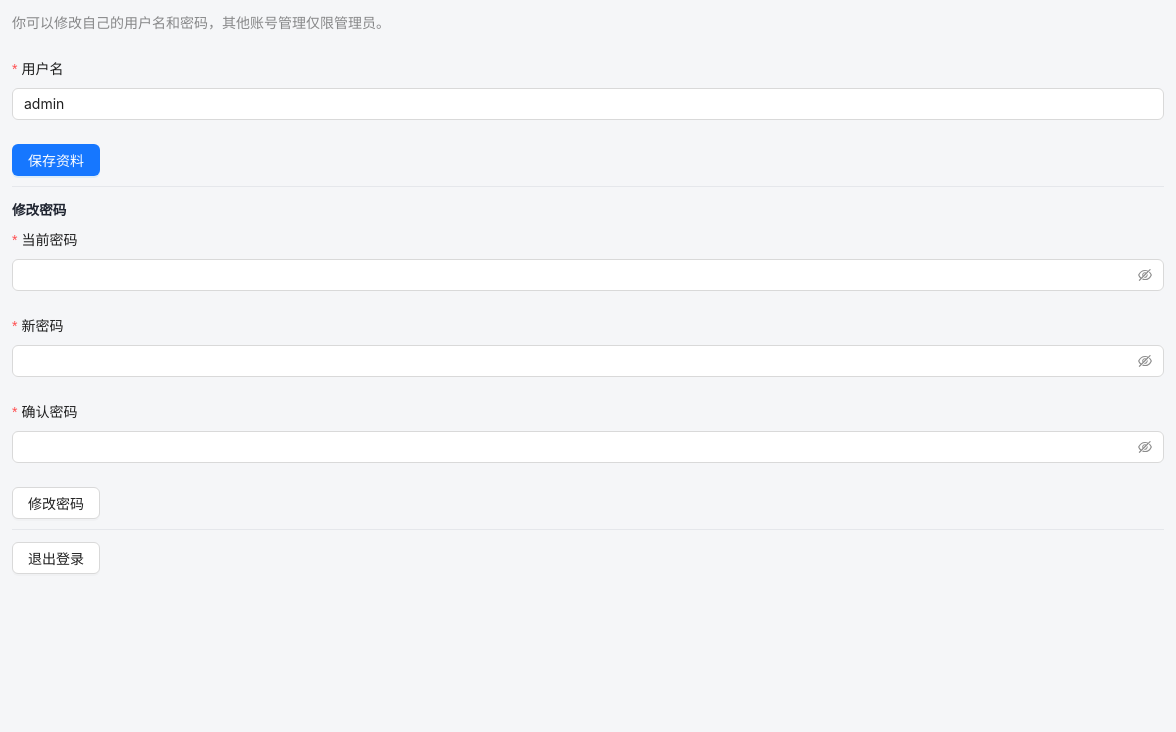
keeps a profile conflict as an in-form error without echoing the raw server text
The image size is (1176, 732).
Replace the text in the field with test id "account-profile-username" with "taken-name". click: (588, 104)
box: [12,88,1164,120]
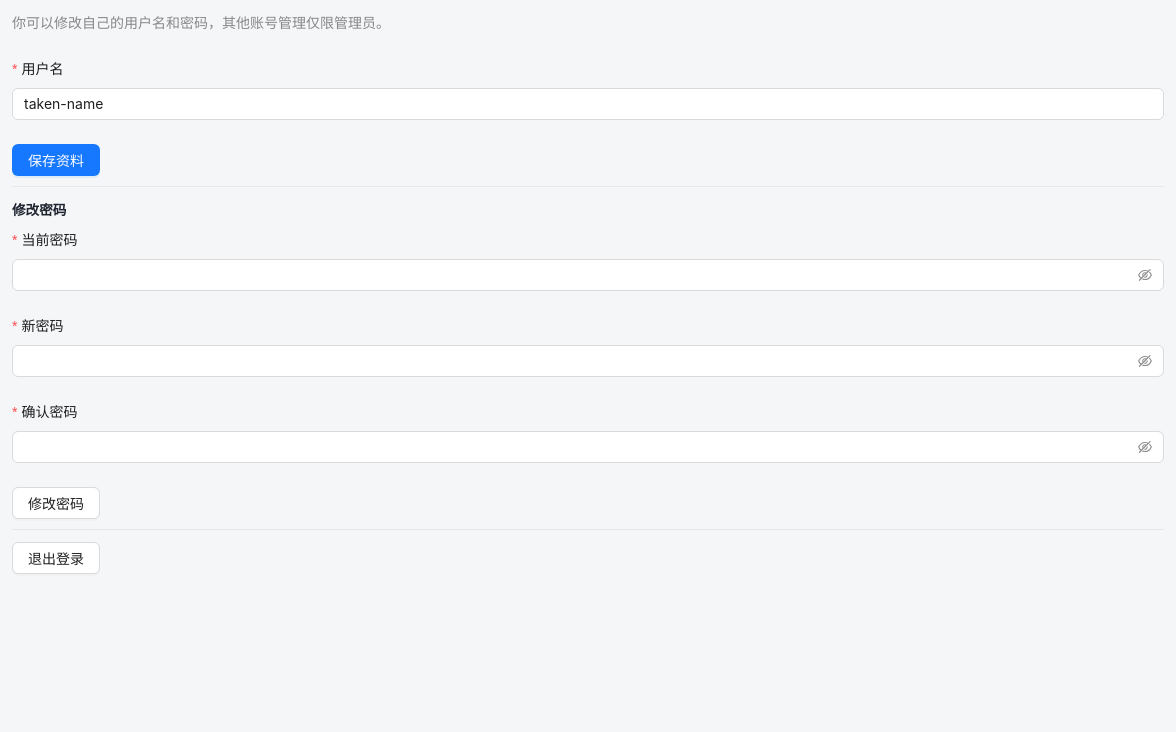
Click the button with test id "account-profile-save". click: (56, 160)
box: [12,144,100,176]
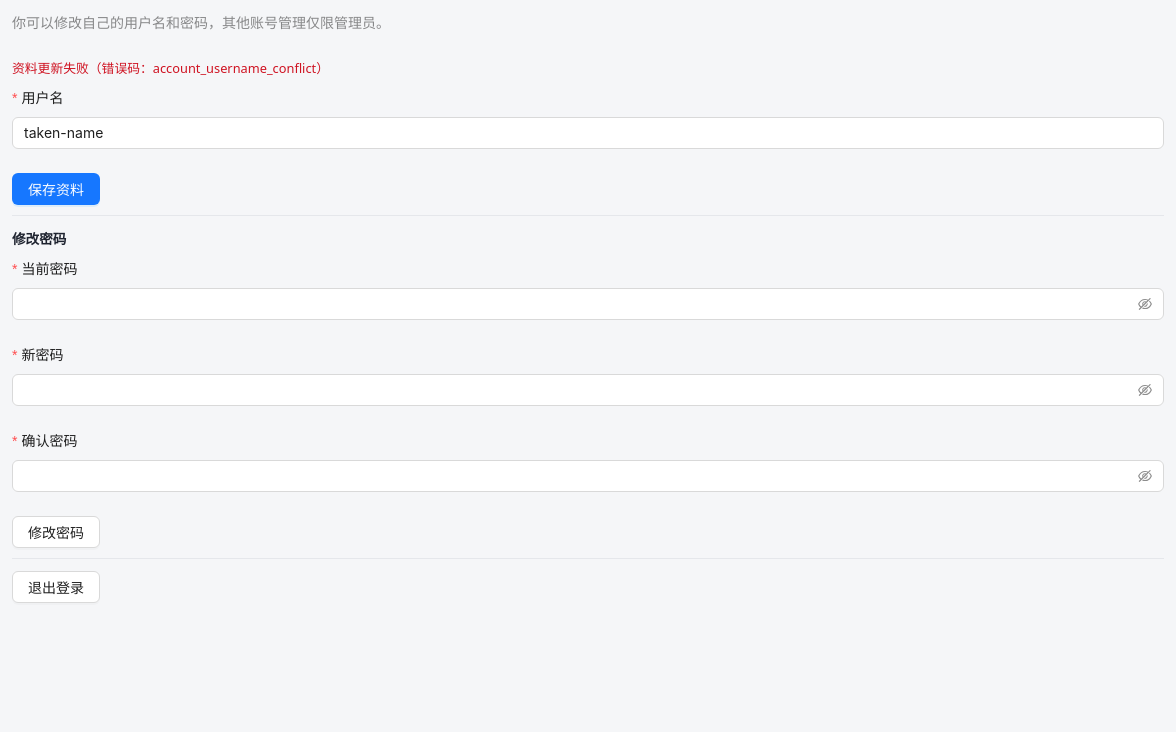
Check: the message shows "资料更新失败", box [12,59,329,77]
Check: the message shows "account_username_conflict", box [12,59,329,77]
